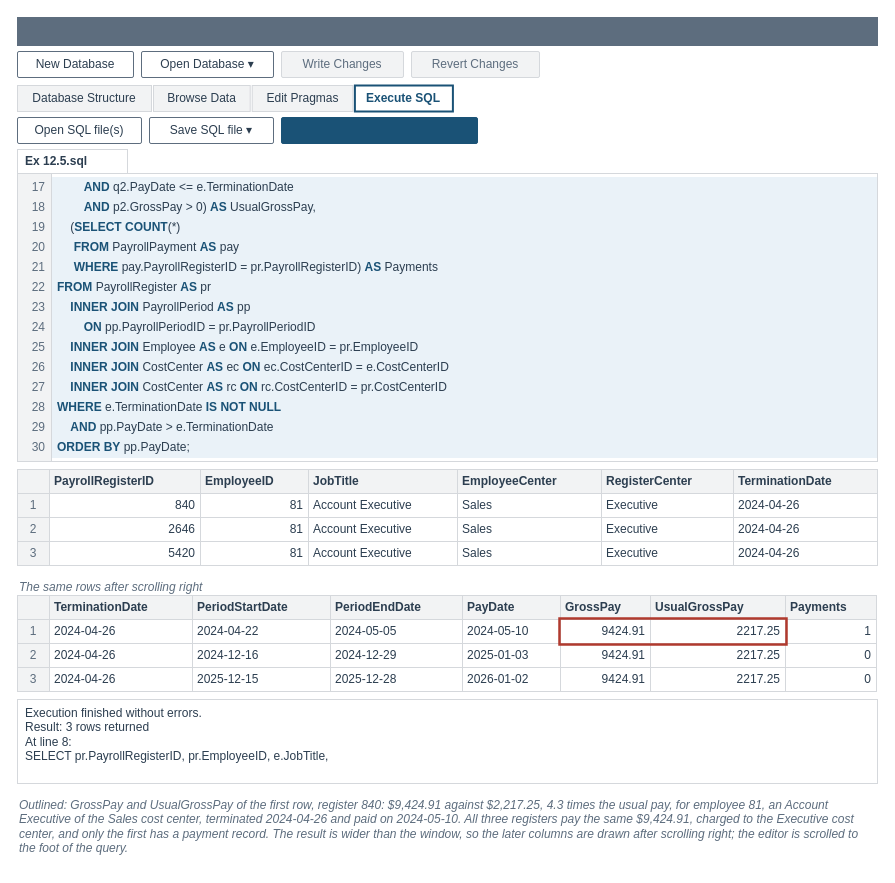
This 895x883 diagram has some shape labels left out. The centre of each missing label's shape, as x and y in pixels:
"DB Browser for SQLite - C:\Users\you\Documents\CharlesRiver_Work.sqlite" goes at (x=447, y=31).
"▶ Execute all/selected SQL" goes at (x=379, y=130).
